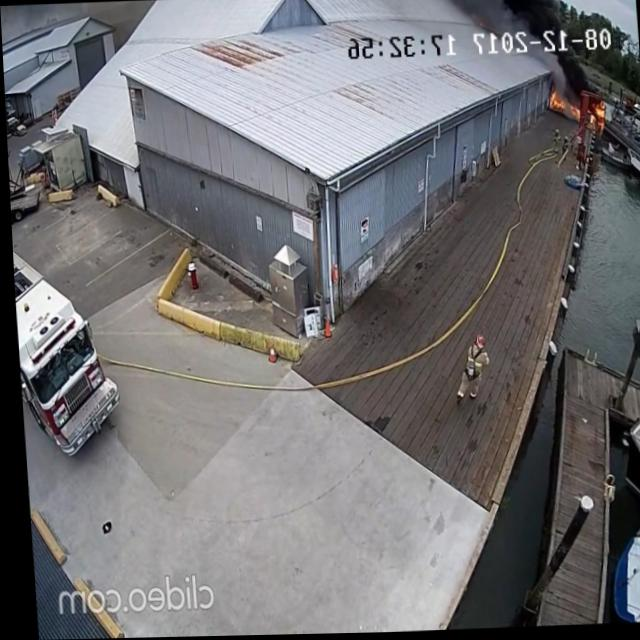fire: (544, 82, 580, 125), (586, 98, 609, 142)
